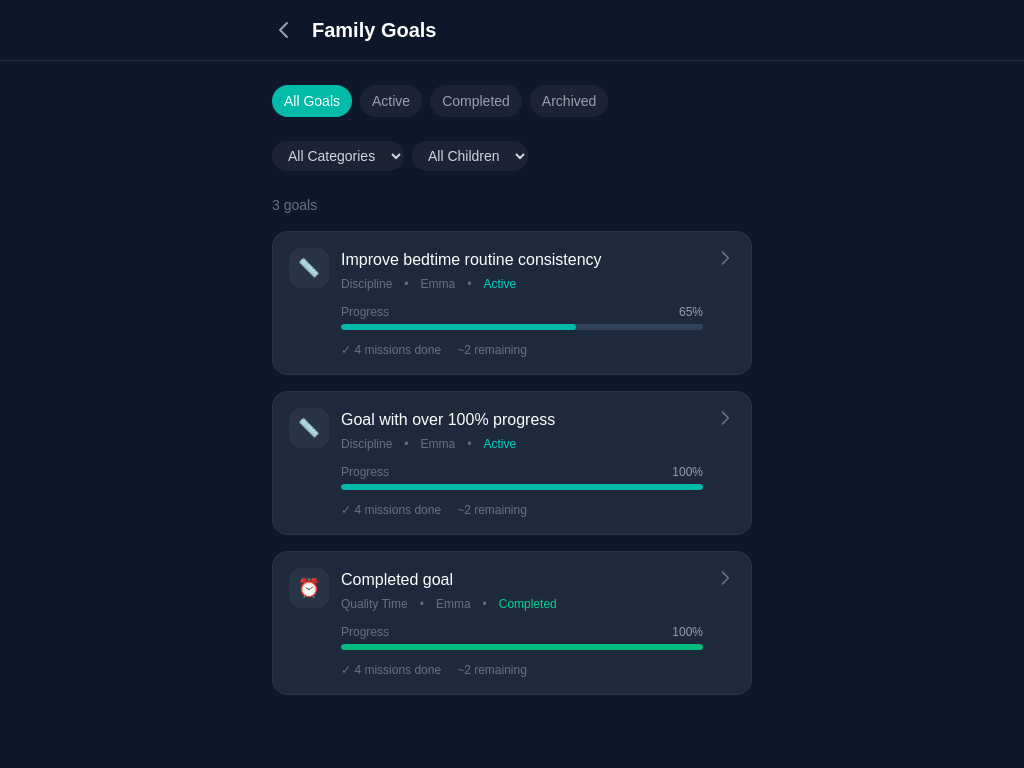
Test: Family Section › GoalsPage - Goals Overview › filtering works › shows filtered count when Completed filter is selected
This screenshot has width=1024, height=768.
Click the button "Completed" at (476, 101), box [430, 85, 522, 117]
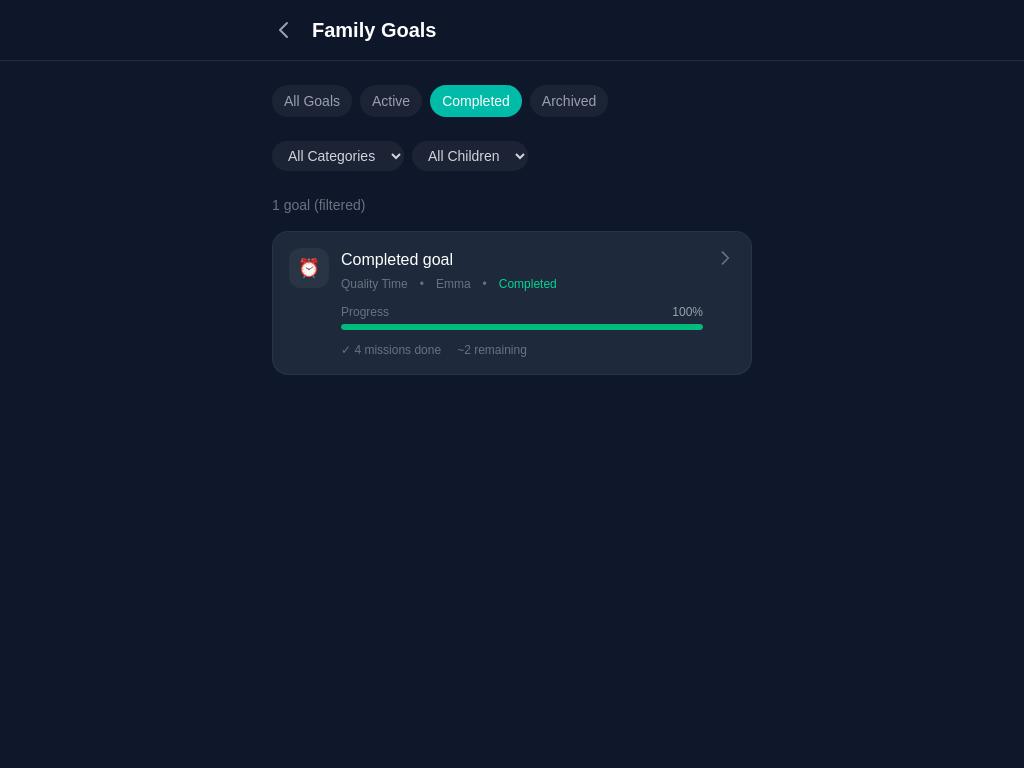
Check: the text "1 goal (filtered)" is shown, box [272, 197, 365, 213]
